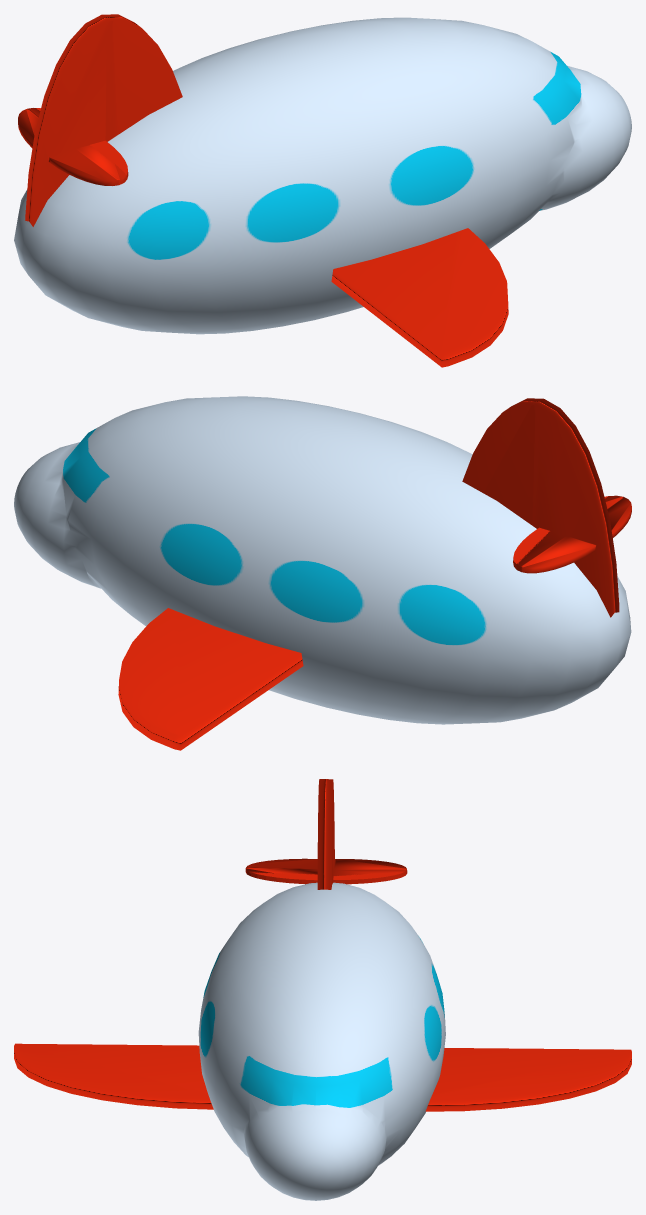
3 renders of one model, top to bottom at view 1: azimuth 30°, elevation 25°; view 2: azimuth 150°, elevation 25°; view 3: azimuth 270°, elevation 25°, orthographic. The views are drawn at different scales.
Parts seen in each view (by area): view 1: Sphere.001, Cylinder.002, Cylinder, Cylinder.003; view 2: Sphere.001, Cylinder.002, Cylinder.001, Cylinder.004; view 3: Sphere.001, Cylinder.001, Cylinder, Cylinder.002, Cylinder.004, Cylinder.003.
Boxes of the visible parts, x1,y1,x2,y2 form: Sphere.001: [14, 17, 631, 334]; Cylinder.002: [18, 14, 182, 226]; Cylinder: [331, 228, 508, 367]; Cylinder.003: [90, 140, 128, 184]; Sphere.001: [14, 396, 631, 724]; Cylinder.002: [462, 398, 631, 617]; Cylinder.001: [118, 608, 303, 750]; Cylinder.004: [513, 527, 549, 571]; Sphere.001: [198, 882, 445, 1200]; Cylinder.001: [425, 1048, 631, 1111]; Cylinder: [14, 1043, 213, 1109]; Cylinder.002: [245, 779, 406, 889]; Cylinder.004: [333, 870, 407, 884]; Cylinder.003: [245, 870, 317, 884].
Size of the model in its own units: 618 by 332 by 662.
Materials: 6 (1 with a texture image).
